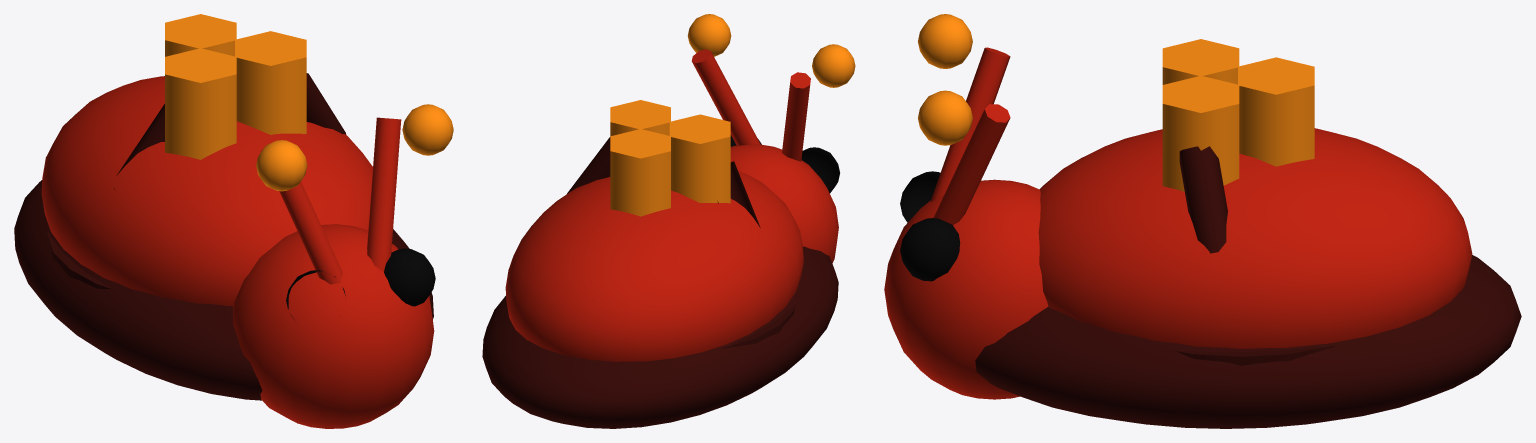
The model's file is vulcano.obj.
3 views of the same model, side by side, from view 1: azimuth 30°, elevation 25°; view 2: azimuth 150°, elevation 25°; view 3: azimuth 270°, elevation 25° (orthographic). The views are drawn at different scales.
Size of the model in its own units: 0.472 by 0.446 by 0.7635.
